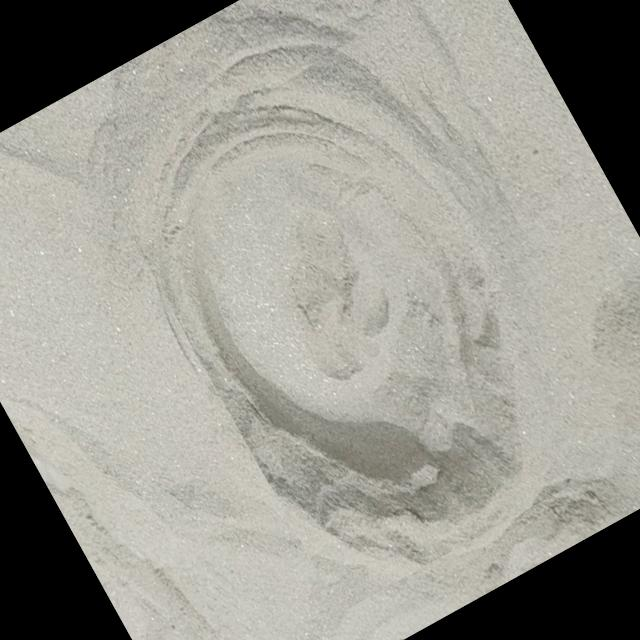C20: (162, 54, 520, 560)
